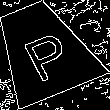P_NW: (12, 20, 73, 80)
